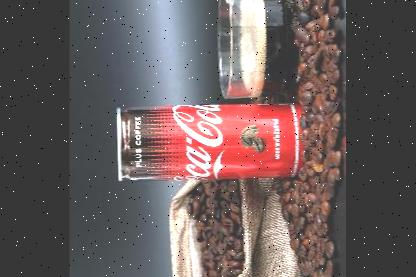Can: (114, 101, 305, 180)
